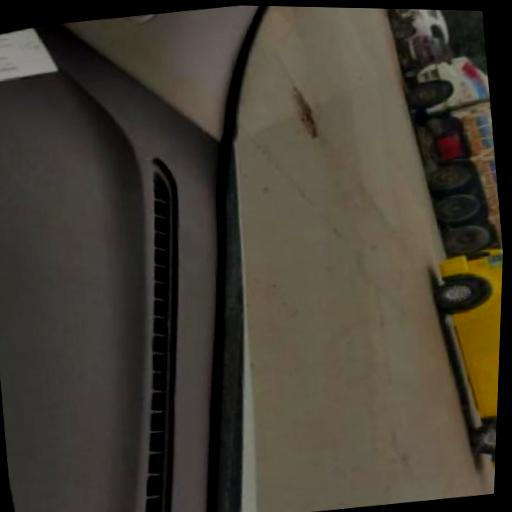pothole: (150, 54, 452, 178)
